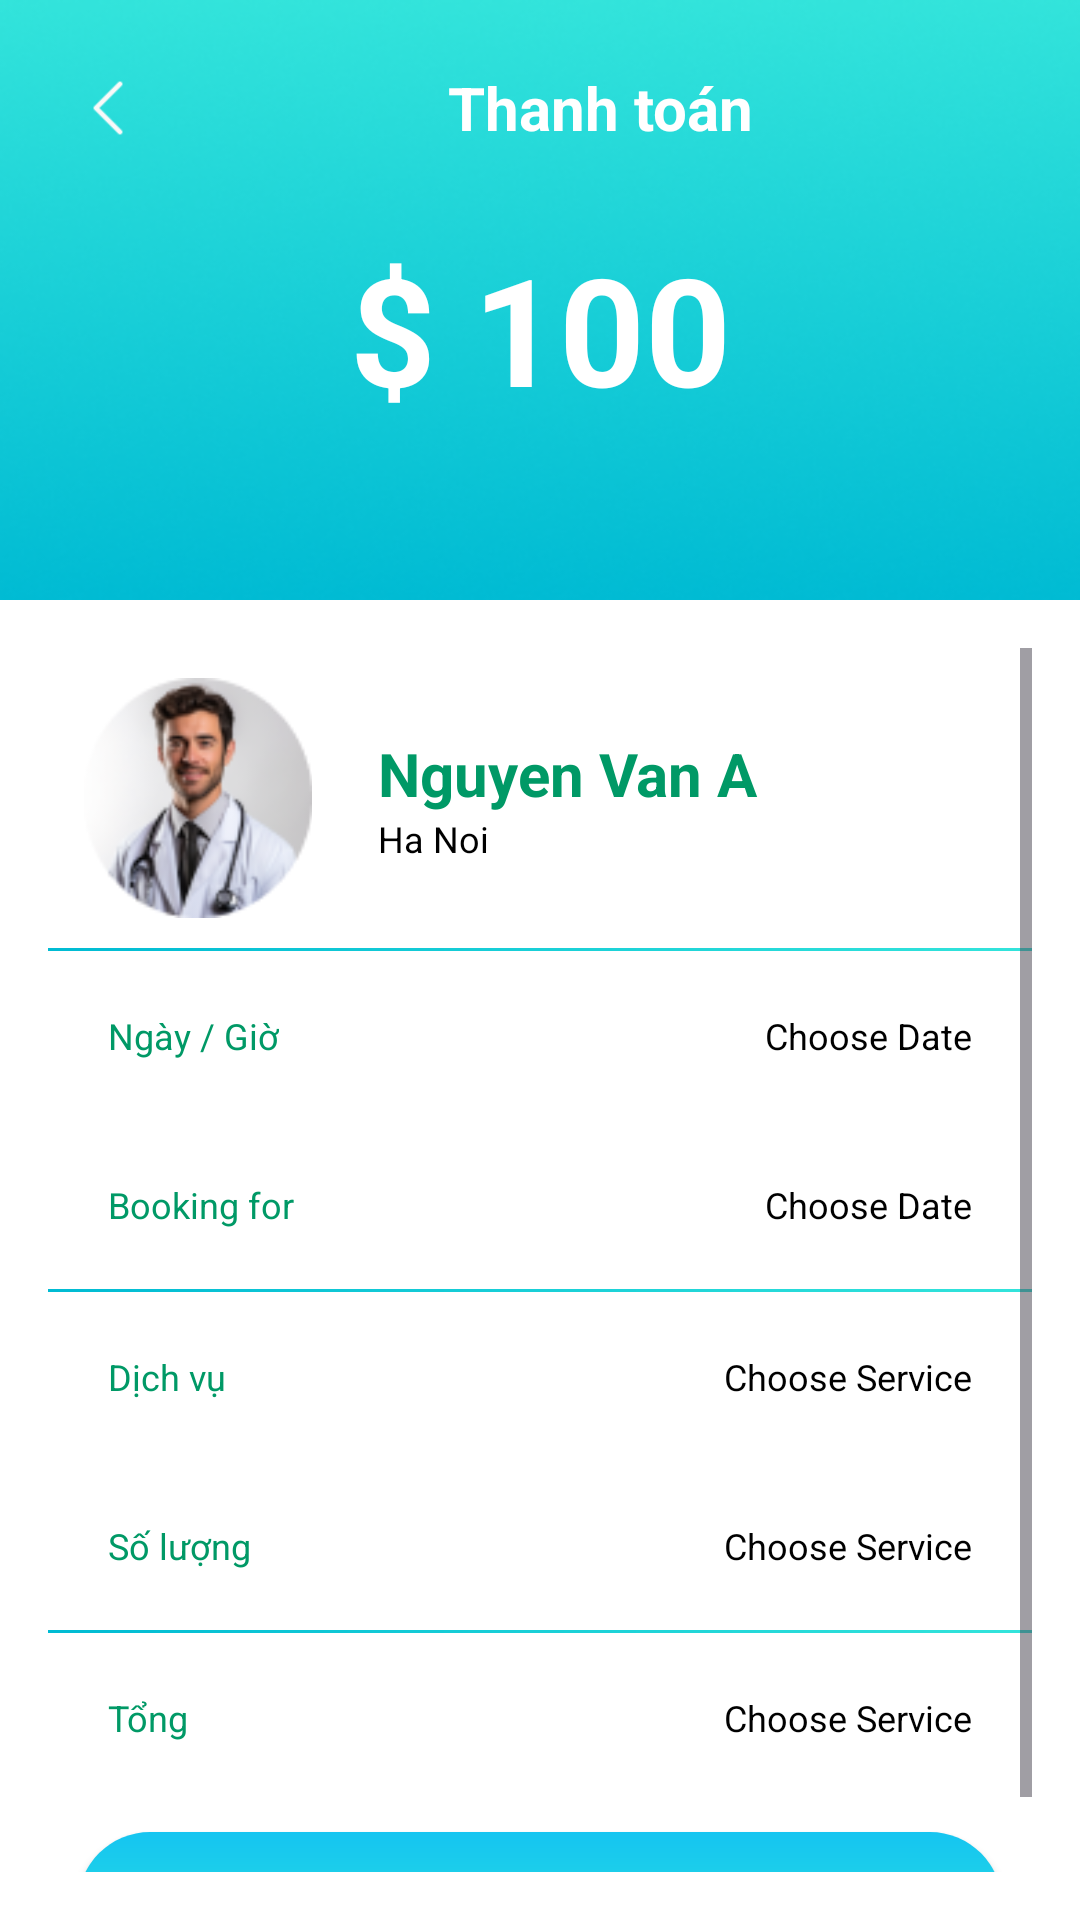

Named icons in this screenshot (1080 x 1920) and their centers, (x,y):
back: (108,108)
